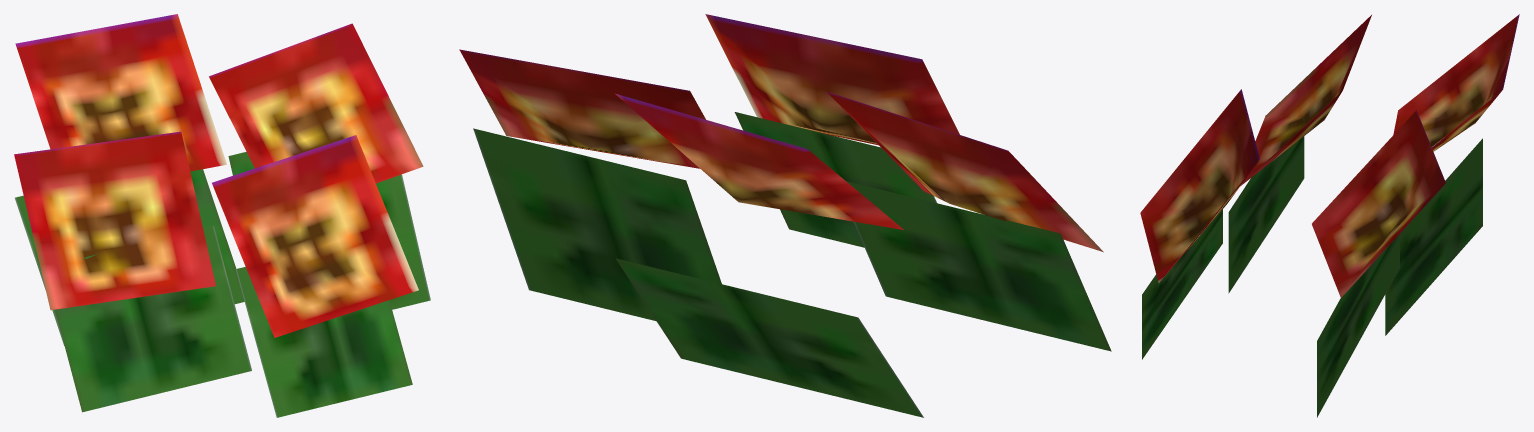
File: flw_pansy_ry.dae
3 renders of one model, left to right at view 1: azimuth 30°, elevation 25°; view 2: azimuth 150°, elevation 25°; view 3: azimuth 270°, elevation 25°, orthographic. The views are drawn at different scales.
Parts seen in each view (by area): view 1: flw_pansy_ry; view 2: flw_pansy_ry; view 3: flw_pansy_ry.
Part boxes in pixels (box(x1,y1,x2,y2)): flw_pansy_ry: box(14, 14, 430, 417); flw_pansy_ry: box(459, 14, 1111, 417); flw_pansy_ry: box(1140, 14, 1519, 417).
Bounding box in the file's own units: 32.39 × 19.38 × 26.27.
1 material, 1 textured.
